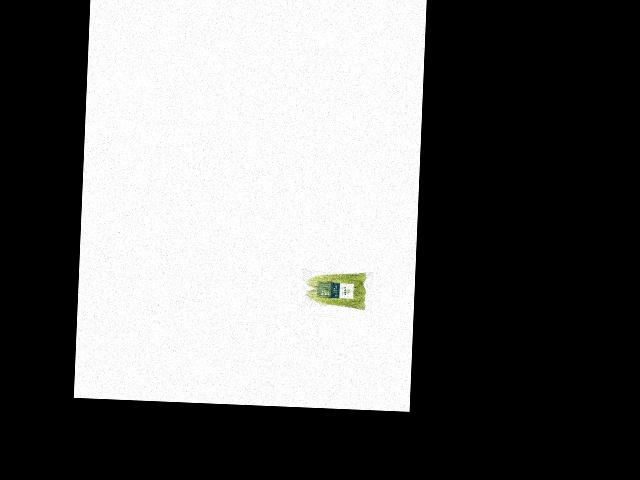lettuce: (303, 265, 369, 310)
